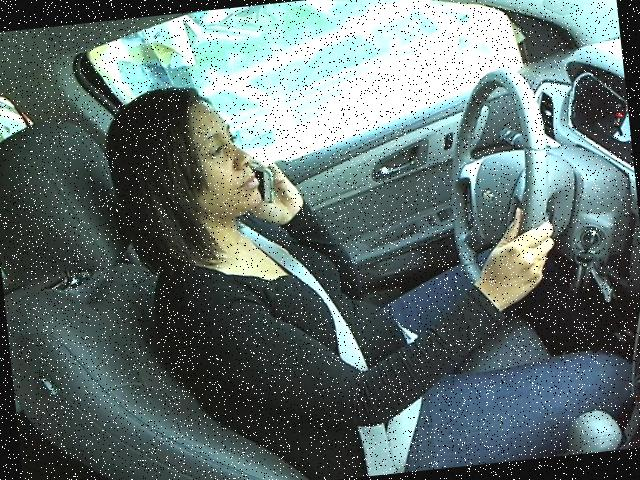c2 - Talking on the phone: (90, 34, 584, 462)
